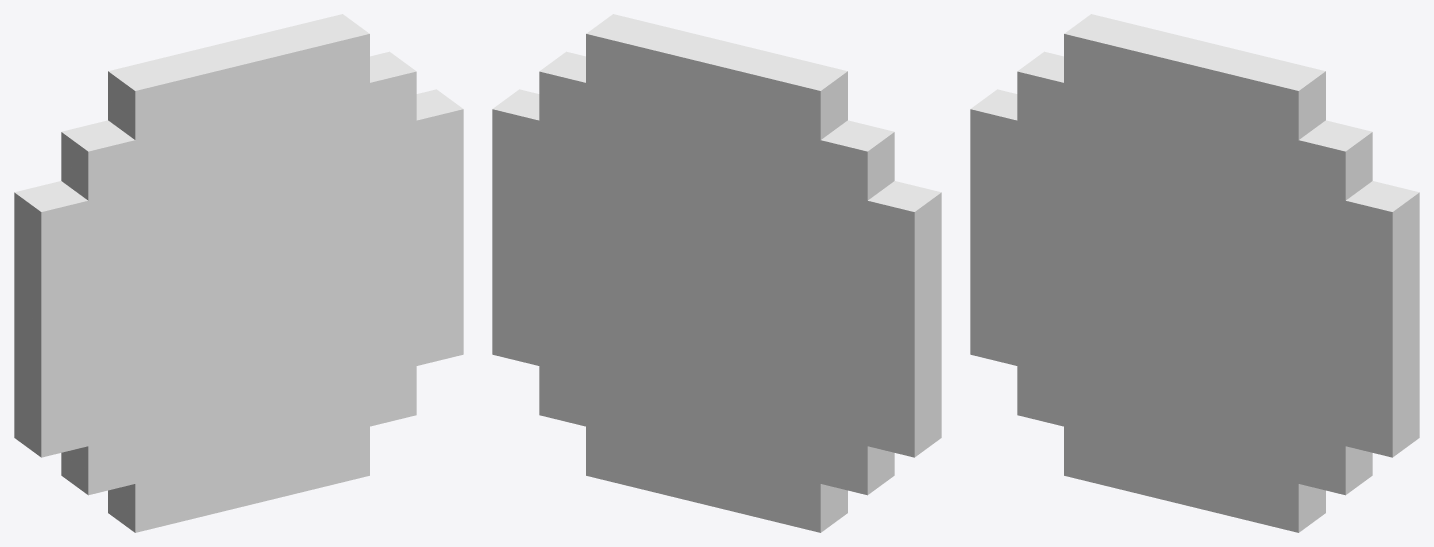
The model's file is Shield-Large-White.vox.obj.
The picture shows the model from 3 angles, left to right: view 1: azimuth 30°, elevation 25°; view 2: azimuth 150°, elevation 25°; view 3: azimuth 330°, elevation 25°; orthographic projection.
Size of the model in its own units: 0.9 by 0.9 by 0.1.
1 material, 1 textured.
